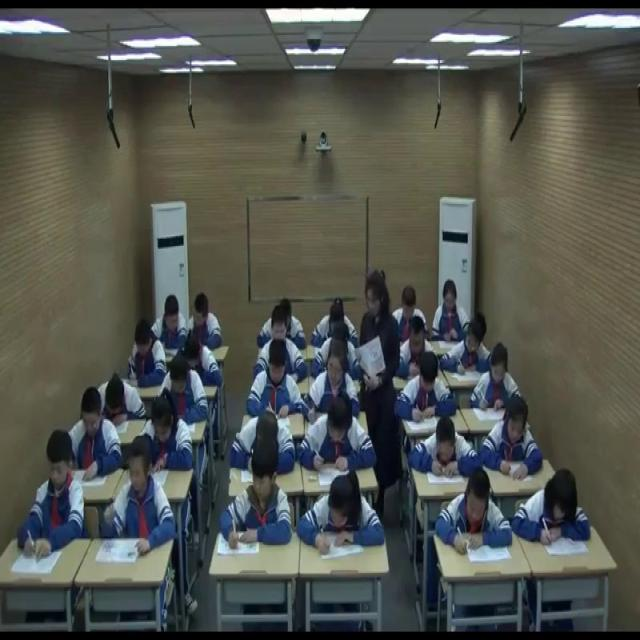distracted: (183, 291, 225, 356), (156, 294, 189, 352)
focused: (102, 440, 176, 558), (19, 429, 85, 557), (295, 471, 388, 560), (220, 445, 295, 551), (438, 464, 518, 560), (516, 464, 595, 554), (296, 392, 375, 474), (484, 392, 546, 484), (404, 416, 486, 477), (243, 340, 304, 416), (400, 352, 458, 430), (143, 390, 194, 474), (73, 392, 121, 481), (228, 409, 294, 473), (255, 313, 307, 389), (311, 346, 364, 420), (439, 313, 500, 376), (470, 343, 524, 410), (162, 358, 210, 426), (176, 329, 222, 392), (432, 279, 472, 350), (314, 326, 364, 381), (128, 323, 166, 393), (99, 374, 143, 432), (315, 301, 362, 347), (396, 320, 430, 379), (394, 292, 426, 344)
